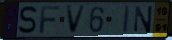6: (89, 5, 106, 34)
F: (38, 5, 61, 35)
I: (122, 5, 132, 35)
N: (133, 5, 154, 35)
S: (18, 5, 39, 35)
V: (66, 4, 88, 36)
